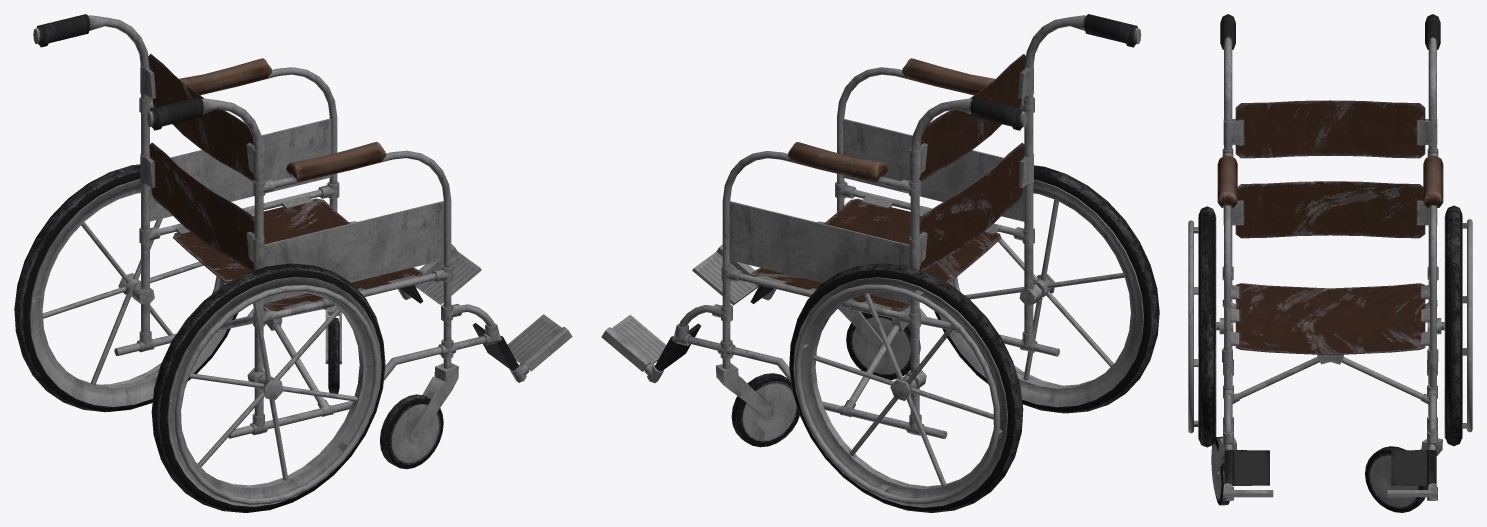
The model's file is wheelchair.glb.
The picture shows the model from 3 angles, left to right: view 1: azimuth 30°, elevation 25°; view 2: azimuth 150°, elevation 25°; view 3: azimuth 270°, elevation 25°; orthographic projection. The views are drawn at different scales.
Visible parts, largest first — view 1: Plane.020_Plane.012; view 2: Plane.020_Plane.012; view 3: Plane.020_Plane.012.
Boxes of the visible parts, bbox=[...] form: Plane.020_Plane.012: bbox=[14, 14, 572, 512]; Plane.020_Plane.012: bbox=[601, 14, 1159, 512]; Plane.020_Plane.012: bbox=[1188, 14, 1472, 512].
Bounding box in the file's own units: 2 × 1.86 × 1.27.
Materials: 1 (1 with a texture image).
